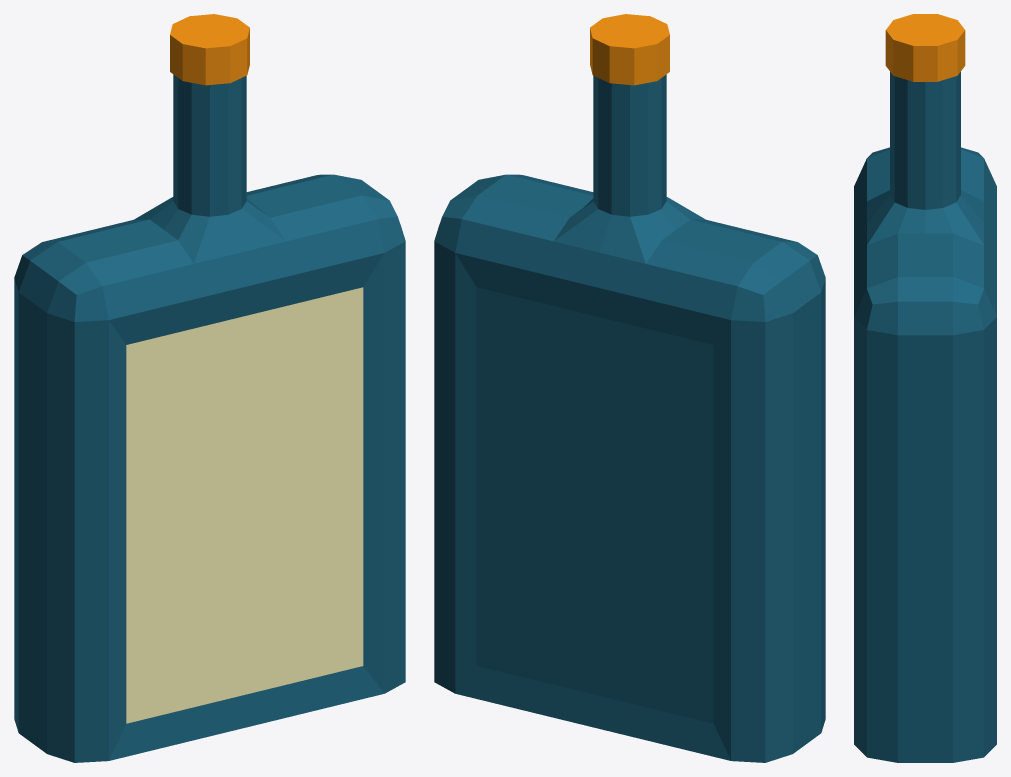
Rendered from bottle3.fbx.
3 renders of one model, left to right at view 1: azimuth 30°, elevation 25°; view 2: azimuth 150°, elevation 25°; view 3: azimuth 270°, elevation 25°, orthographic. The views are drawn at different scales.
Parts seen in each view (by area): view 1: bottle3; view 2: bottle3; view 3: bottle3.
Part boxes in pixels (bbox=[...]): bottle3: bbox=[14, 14, 405, 762]; bottle3: bbox=[434, 14, 825, 762]; bottle3: bbox=[854, 14, 996, 762].
Bounding box in the file's own units: 10 × 18.06 × 3.6.
